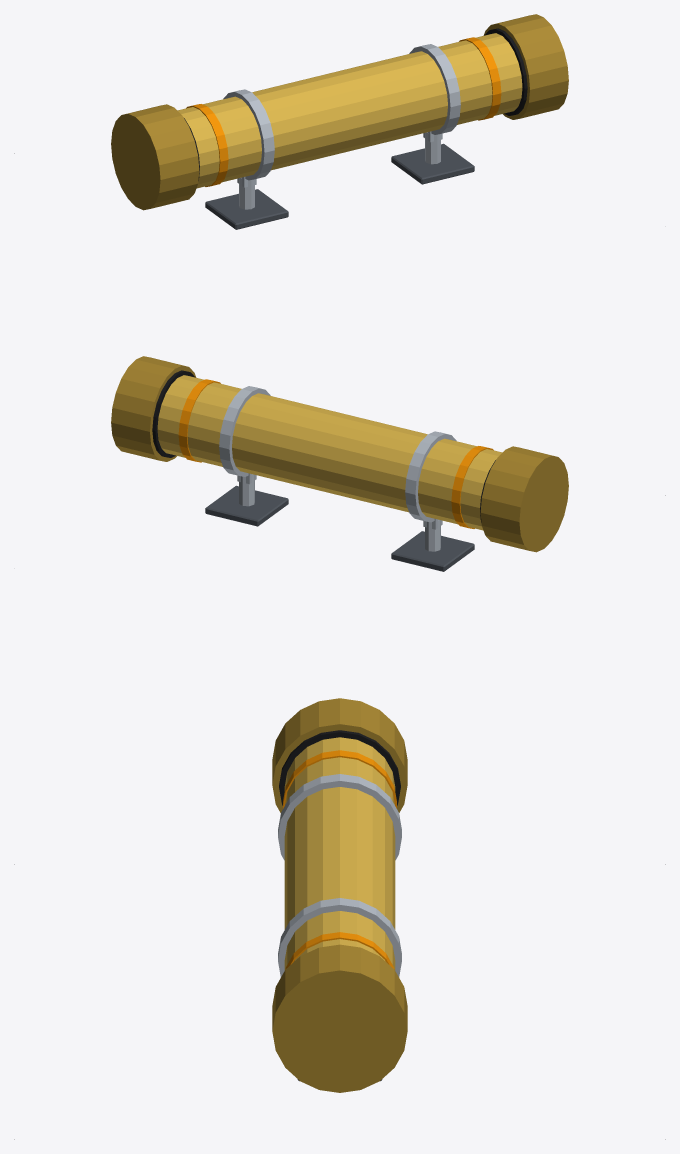
The model's file is tuyau_droit_t2.glb.
The picture shows the model from 3 angles, top to bottom: view 1: azimuth 30°, elevation 25°; view 2: azimuth 150°, elevation 25°; view 3: azimuth 270°, elevation 25°; orthographic projection. The views are drawn at different scales.
Parts seen in each view (by area): view 1: pieces_laiton.014, pieces_laiton_sombre.014, pieces_gris_clair.014, pieces_acier_sombre.050, pieces_rive_t2.016, pieces_noir.022; view 2: pieces_laiton.014, pieces_laiton_sombre.014, pieces_gris_clair.014, pieces_acier_sombre.050, pieces_rive_t2.016, pieces_noir.022; view 3: pieces_laiton_sombre.014, pieces_laiton.014, pieces_gris_clair.014, pieces_rive_t2.016, pieces_noir.022.
Boxes of the visible parts, x1,y1,x2,y2 form: pieces_laiton.014: (177,33,522,188); pieces_laiton_sombre.014: (111,14,568,210); pieces_gris_clair.014: (223,44,460,209); pieces_acier_sombre.050: (205,143,474,229); pieces_rive_t2.016: (186,37,501,186); pieces_noir.022: (184,28,527,180); pieces_laiton.014: (157,375,502,530); pieces_laiton_sombre.014: (111,356,568,552); pieces_gris_clair.014: (219,386,456,551); pieces_acier_sombre.050: (205,485,474,571); pieces_rive_t2.016: (178,379,493,528); pieces_noir.022: (152,370,495,522); pieces_laiton_sombre.014: (272,698,407,1092); pieces_laiton.014: (284,737,395,970); pieces_gris_clair.014: (278,774,401,977); pieces_rive_t2.016: (283,750,396,969); pieces_noir.022: (279,730,400,805).
Size of the model in its own units: 1 by 0.2837 by 1.
